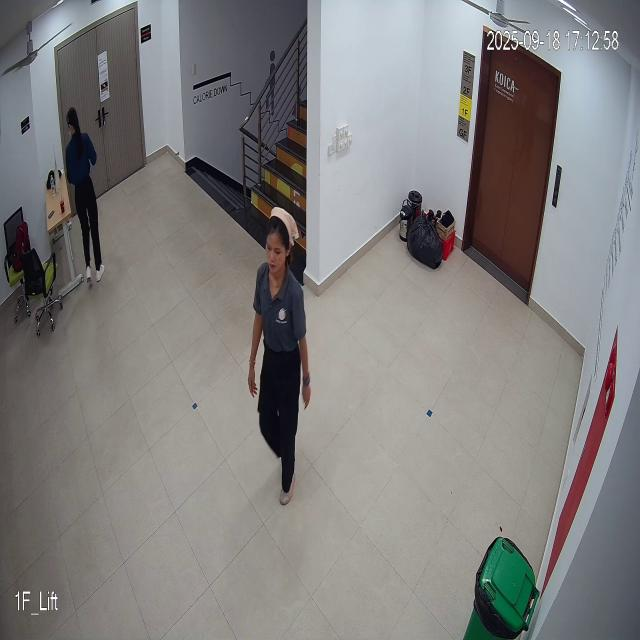face: (264, 212, 290, 277)
